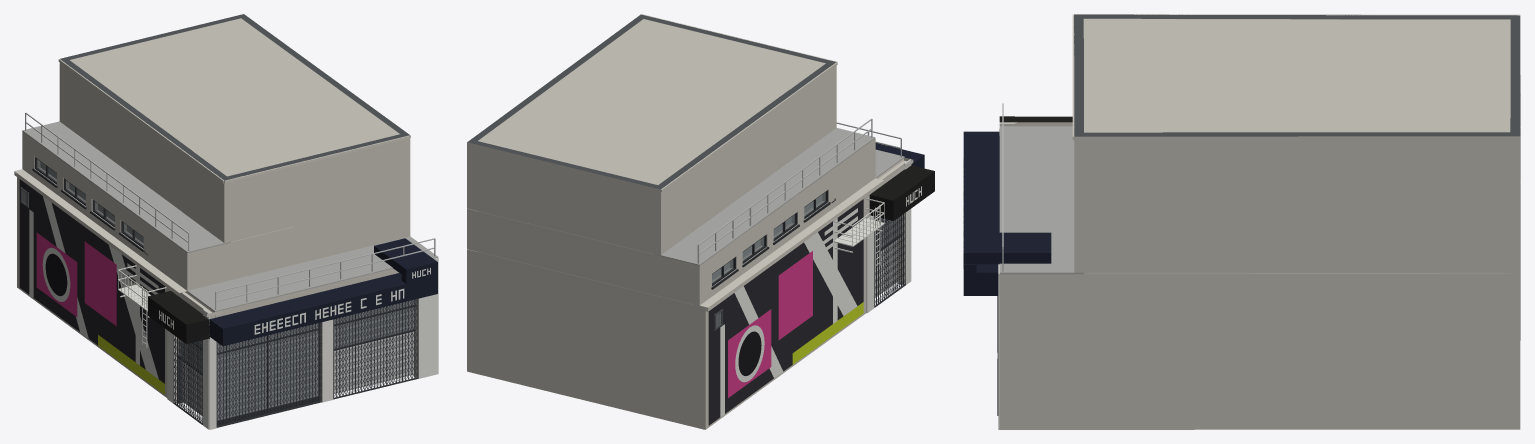
File: exterior.glb
The picture shows the model from 3 angles, left to right: view 1: azimuth 30°, elevation 25°; view 2: azimuth 150°, elevation 25°; view 3: azimuth 270°, elevation 25°; orthographic projection. The views are drawn at different scales.
Parts seen in each view (by area): view 1: shell, rooftop-box-lid, mural, lattice-gates-2, shadow-proxy, glazing, setback-1-800, awning-box-2, setback-2-600, b5-dress-2, b6-awning-dress-2, setback-1-600 (+9 smaller); view 2: shell, rooftop-box-lid, mural, setback-1-800, setback-1-600, awning-box-1, lattice-gates-1, b5-dress-1, shadow-proxy, mural-discs, glazing, fire-escape-landing-1 (+4 smaller); view 3: shell, rooftop-box-lid, setback-2-600, awning-box-2, b6-awning-dress-2, relief-1.
Boxes of the visible parts, x1,y1,x2,y2 form: shell: (17,14,417,403); rooftop-box-lid: (70,18,399,176); mural: (19,179,164,394); lattice-gates-2: (216,298,418,427); shadow-proxy: (40,162,413,419); glazing: (37,159,416,420); setback-1-800: (22,112,230,252); awning-box-2: (209,273,437,346); setback-2-600: (187,236,438,311); b5-dress-2: (209,257,438,429); b6-awning-dress-2: (254,238,437,334); setback-1-600: (14,169,221,316); shell: (467,14,909,429); rooftop-box-lid: (478,19,825,184); mural: (708,199,863,425); setback-1-800: (654,118,875,265); setback-1-600: (693,159,913,311); awning-box-1: (869,165,934,220); lattice-gates-1: (874,213,905,307); b5-dress-1: (714,159,911,330); shadow-proxy: (712,195,897,298); mural-discs: (735,325,764,382); glazing: (712,192,900,283); fire-escape-landing-1: (833,198,884,269); shell: (999,14,1520,429); rooftop-box-lid: (1083,19,1510,132); setback-2-600: (999,103,1083,274); awning-box-2: (963,131,999,295); b6-awning-dress-2: (963,158,1051,272); relief-1: (1074,14,1520,15).
Bounding box in the file's own units: 13.62 × 11.27 × 19.41.
